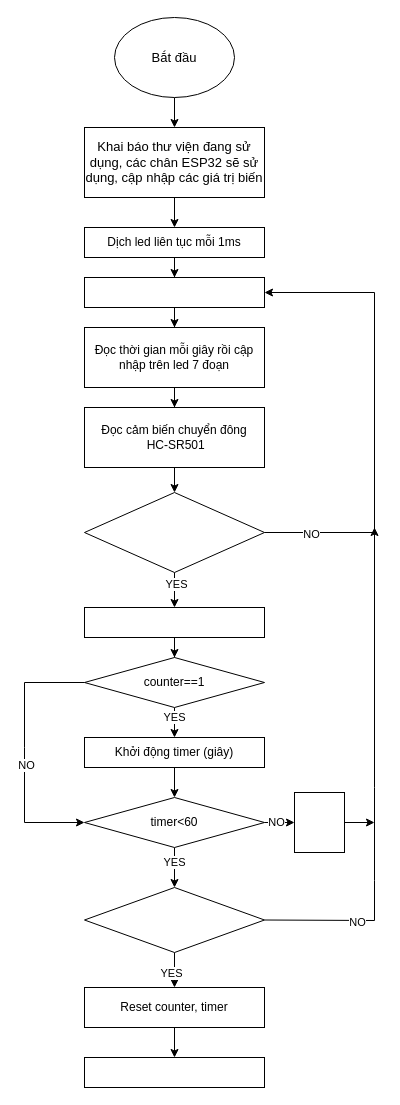
Some shapes in this 400 by 1105 pixel diagram are drawn without their labels. The centre of each missing label's shape, as x and y in pixels:
"Chuyển động?" belongs at pixel 174 532.
"counter>6" belongs at pixel 174 919.
"reset timer, couter" belongs at pixel 319 822.
"Tăng biến đếm (counter++)" belongs at pixel 174 622.
"Vòng lặp chính" belongs at pixel 174 292.
